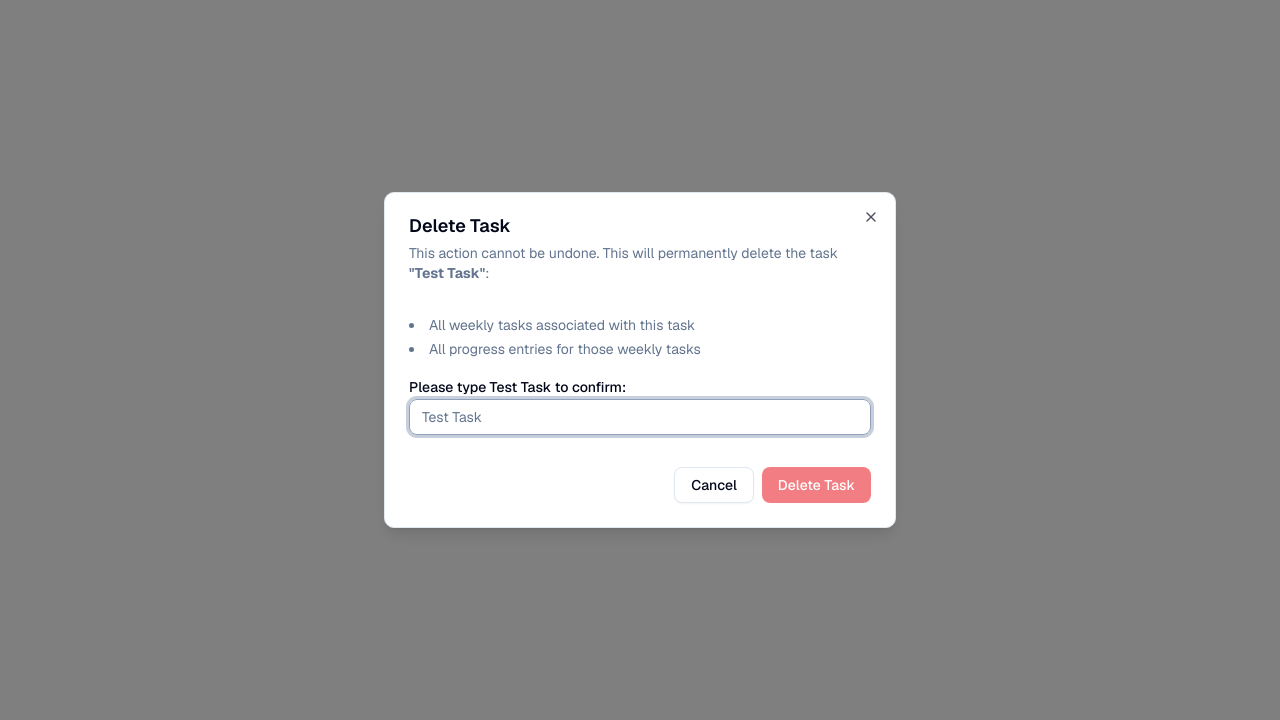
Test: DeleteTaskDialog › requires exact task title to enable delete button
Expected: the button "Delete Task" is disabled, [762,467,871,503]
Type "Wrong Name" into the field with placeholder "Test Task".
click(640, 417); type("Wrong Name")  # box [409,399,871,435]
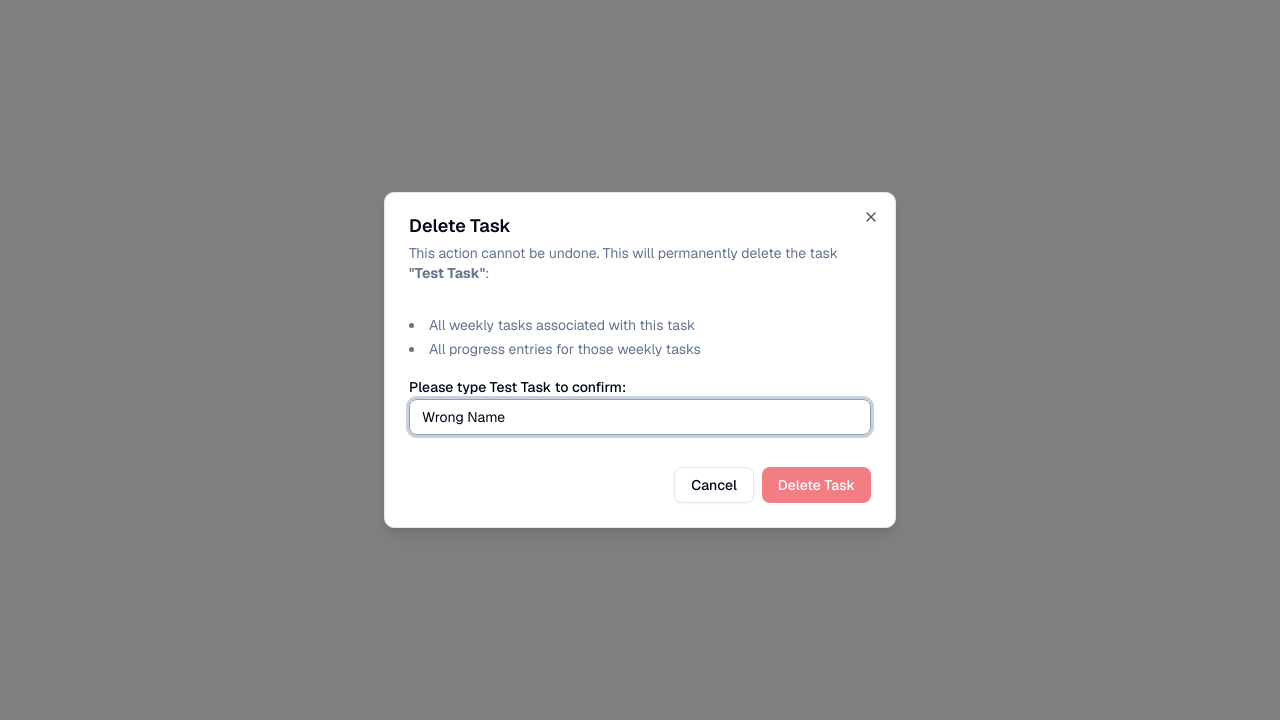
Expected: the button "Delete Task" is disabled, [762,467,871,503]
Replace the text in the field with placeholder "Test Task" with "Test Task" at (640, 417), box [409,399,871,435]
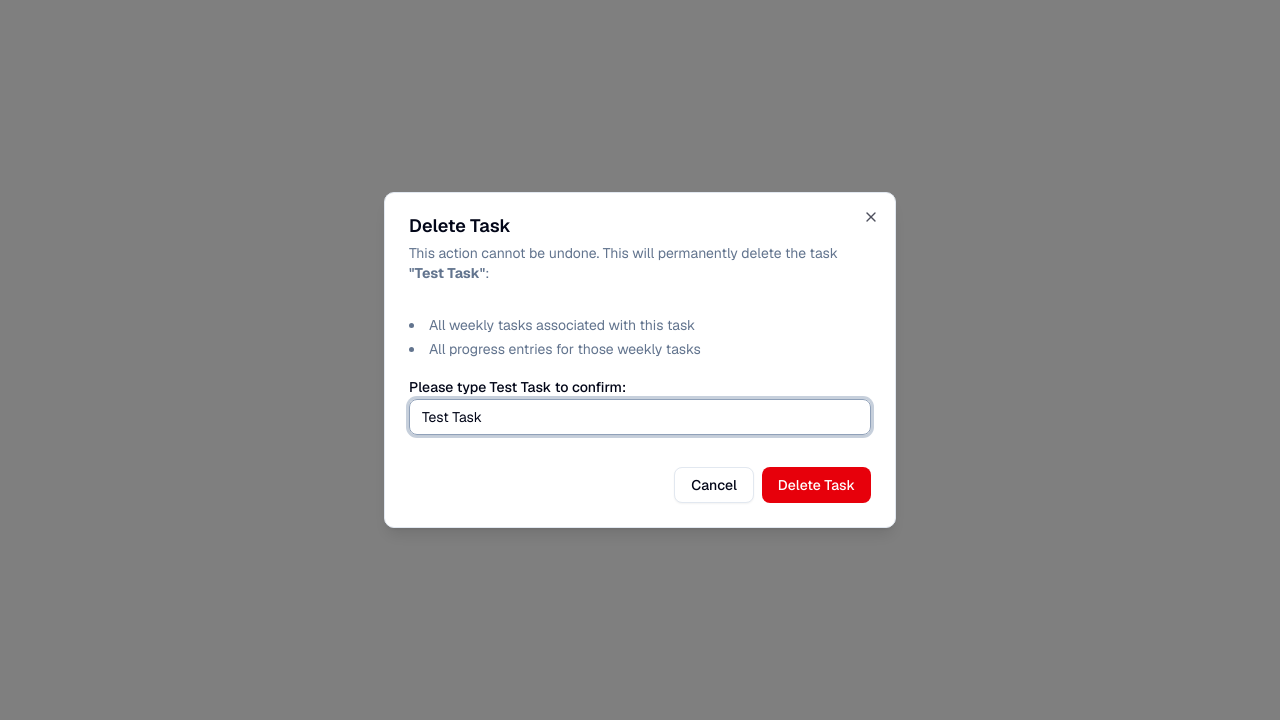
Now the button "Delete Task" is enabled, box [762,467,871,503]
